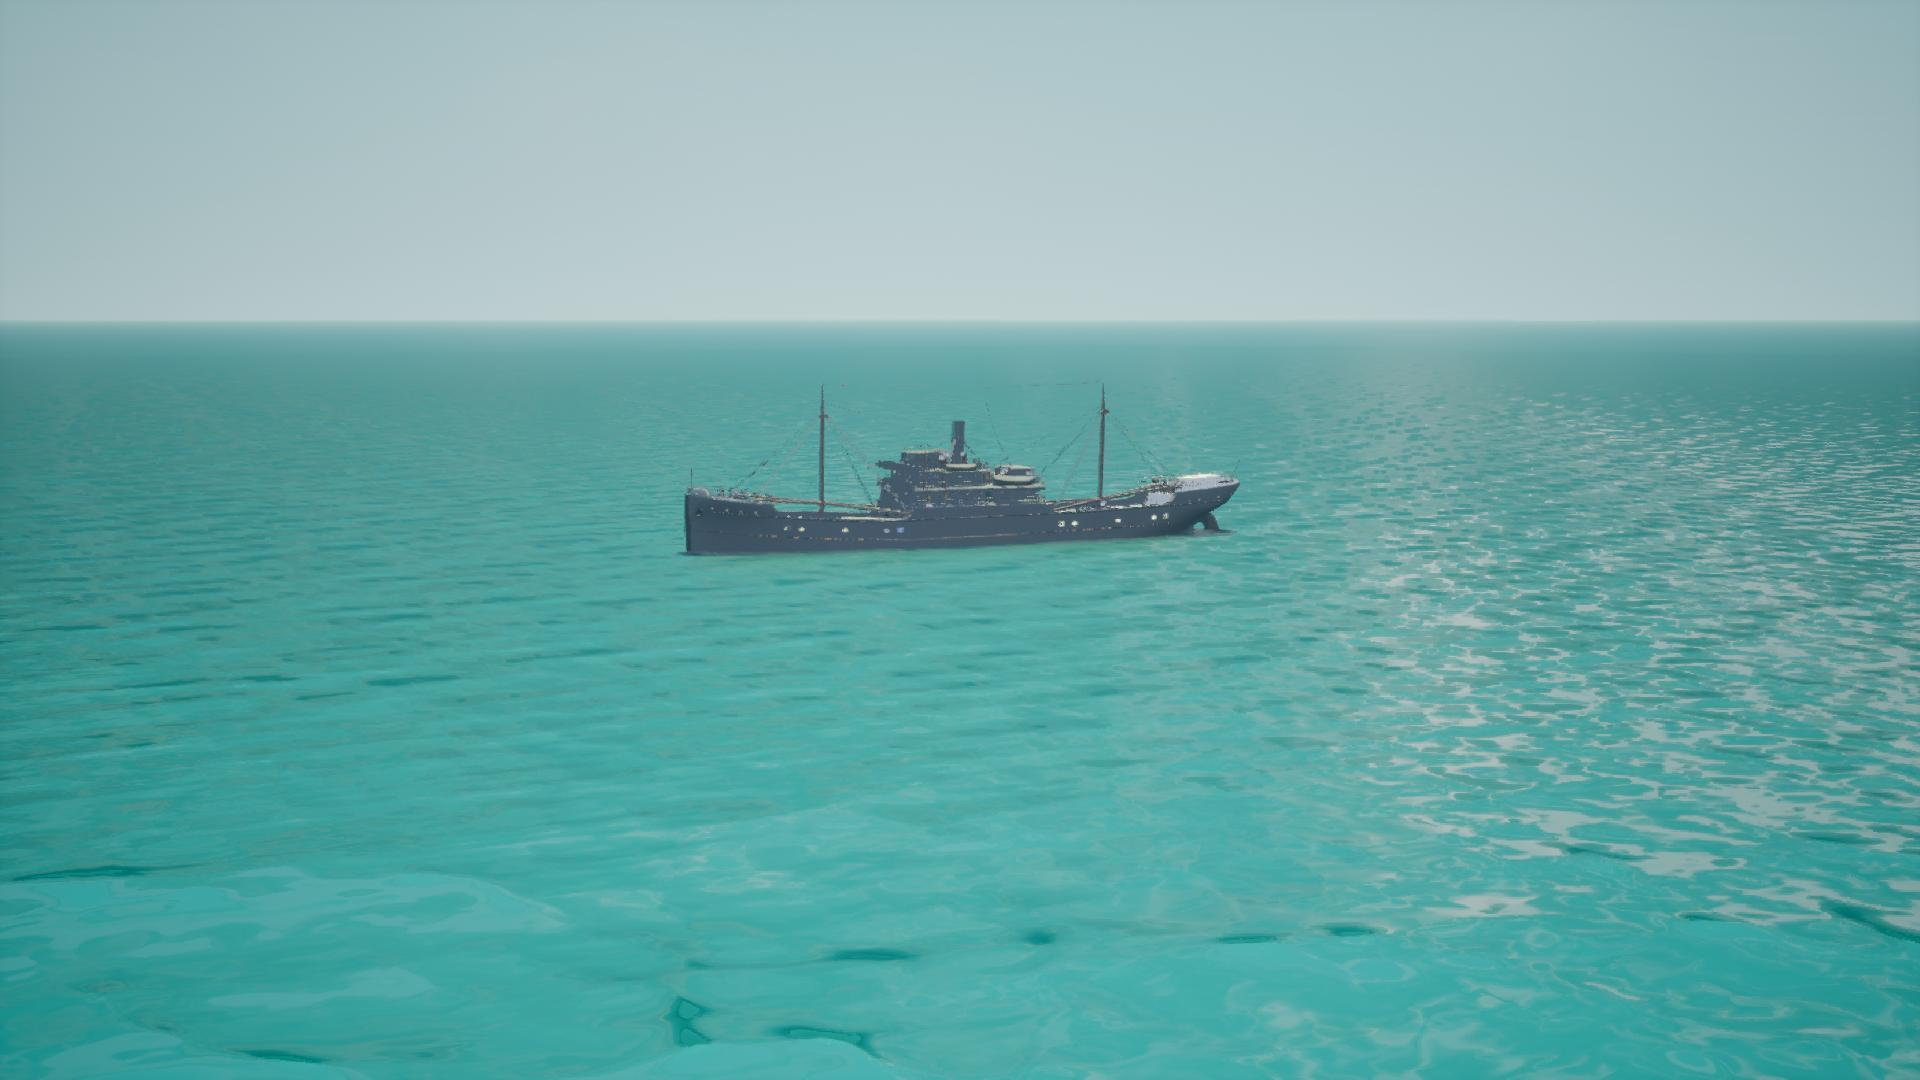Fishing Boat: (686, 385, 1245, 556)
